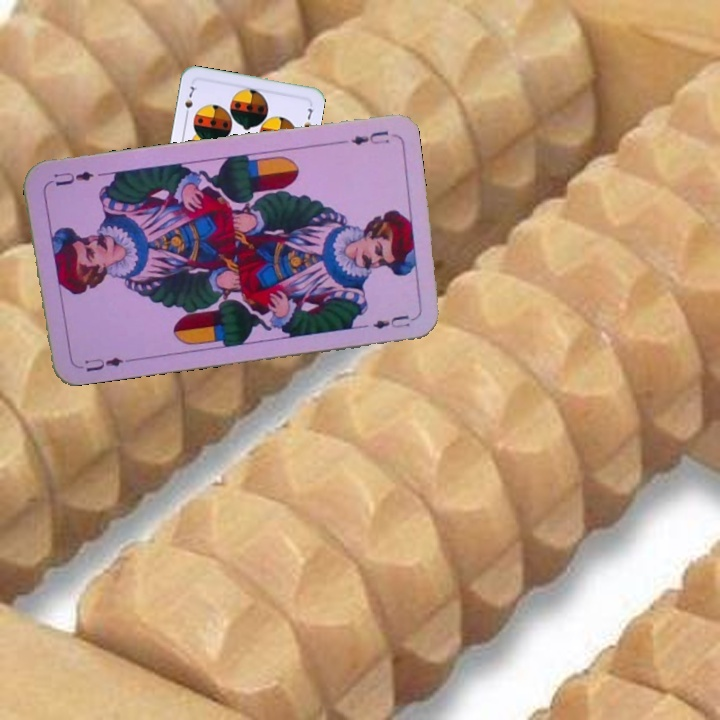EU: (71, 353, 126, 375), (347, 126, 392, 147)
S7: (181, 82, 199, 120)
